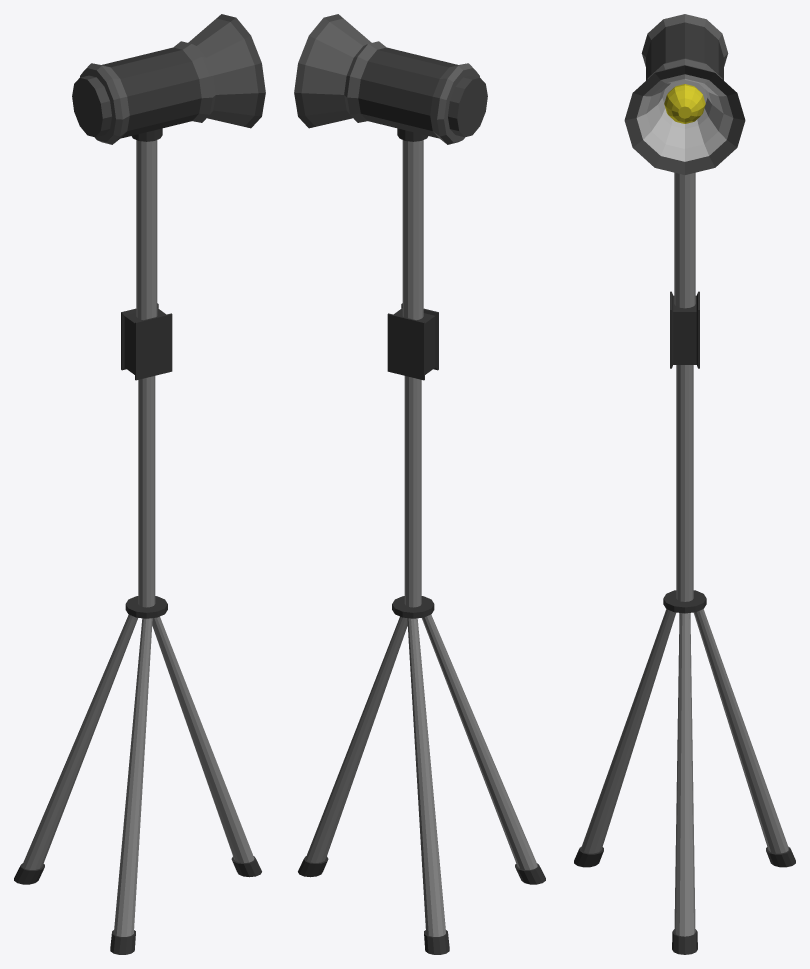
File: Stage Light.fbx
3 views of the same model, side by side, from view 1: azimuth 30°, elevation 25°; view 2: azimuth 150°, elevation 25°; view 3: azimuth 270°, elevation 25° (orthographic). The views are drawn at different scales.
Visible parts, largest first — view 1: Stage Light Stand, Stage Light, Stage Light Pole; view 2: Stage Light Stand, Stage Light, Stage Light Pole; view 3: Stage Light Stand, Stage Light, Stage Light Pole.
Boxes of the visible parts, x1,y1,x2,y2 form: Stage Light Stand: [14, 303, 261, 954]; Stage Light: [72, 14, 265, 144]; Stage Light Pole: [131, 128, 162, 320]; Stage Light Stand: [298, 303, 545, 954]; Stage Light: [294, 14, 487, 144]; Stage Light Pole: [397, 128, 428, 320]; Stage Light Stand: [574, 291, 795, 954]; Stage Light: [624, 14, 745, 174]; Stage Light Pole: [674, 172, 695, 308].
Bounding box in the file's own units: 1076 × 4480 × 1027.
